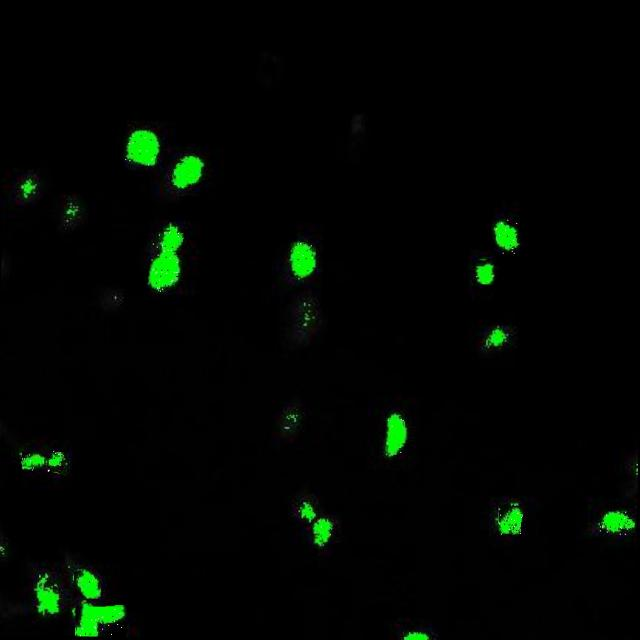Cell: (148, 228, 180, 291), (73, 602, 126, 636), (122, 128, 162, 164), (171, 151, 205, 186), (491, 218, 522, 252), (20, 448, 64, 471), (382, 416, 407, 454), (288, 240, 314, 276), (600, 509, 634, 534), (72, 568, 101, 596), (497, 504, 523, 534), (312, 518, 332, 544), (474, 259, 495, 283)
